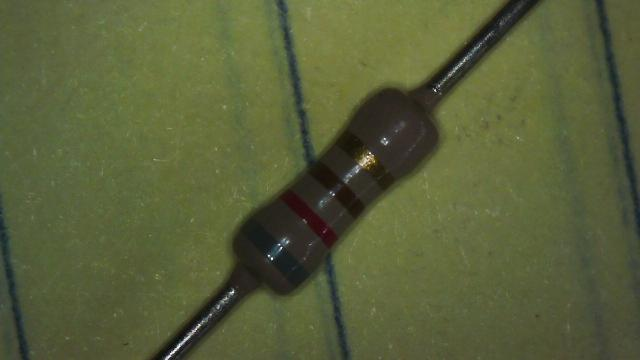brown: (308, 161, 364, 217)
gold: (336, 132, 394, 188)
grey: (242, 218, 308, 286)
red: (279, 189, 338, 247)
resistor: (192, 60, 468, 332)
